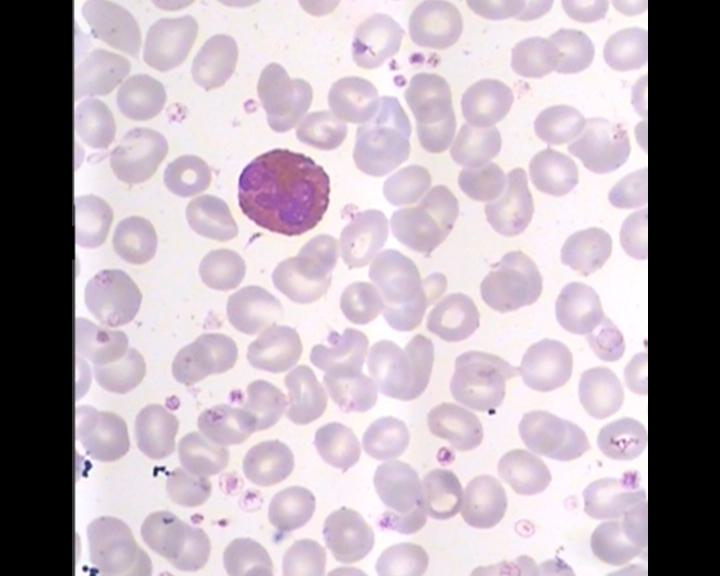eosi: (231, 139, 337, 241)
